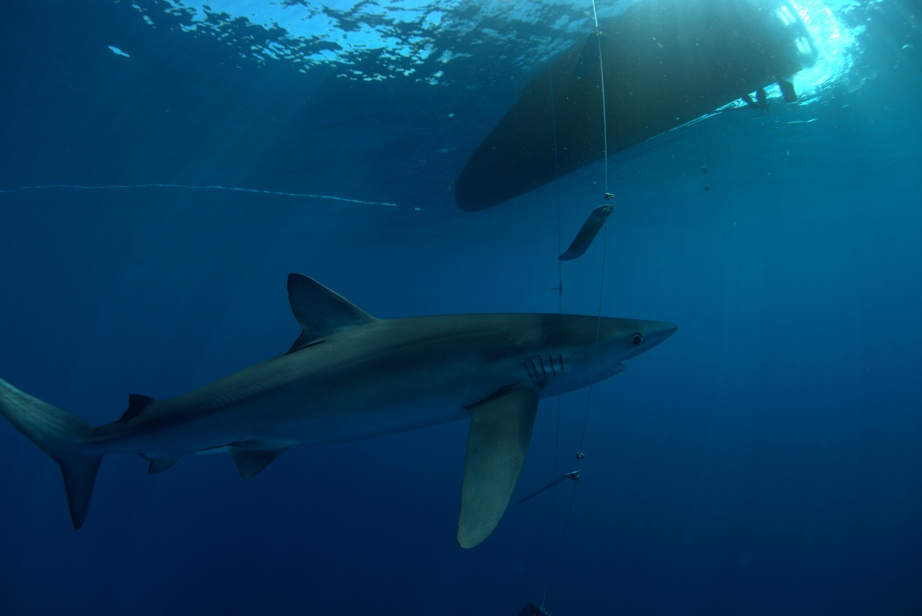Azul: (1, 252, 743, 558)
